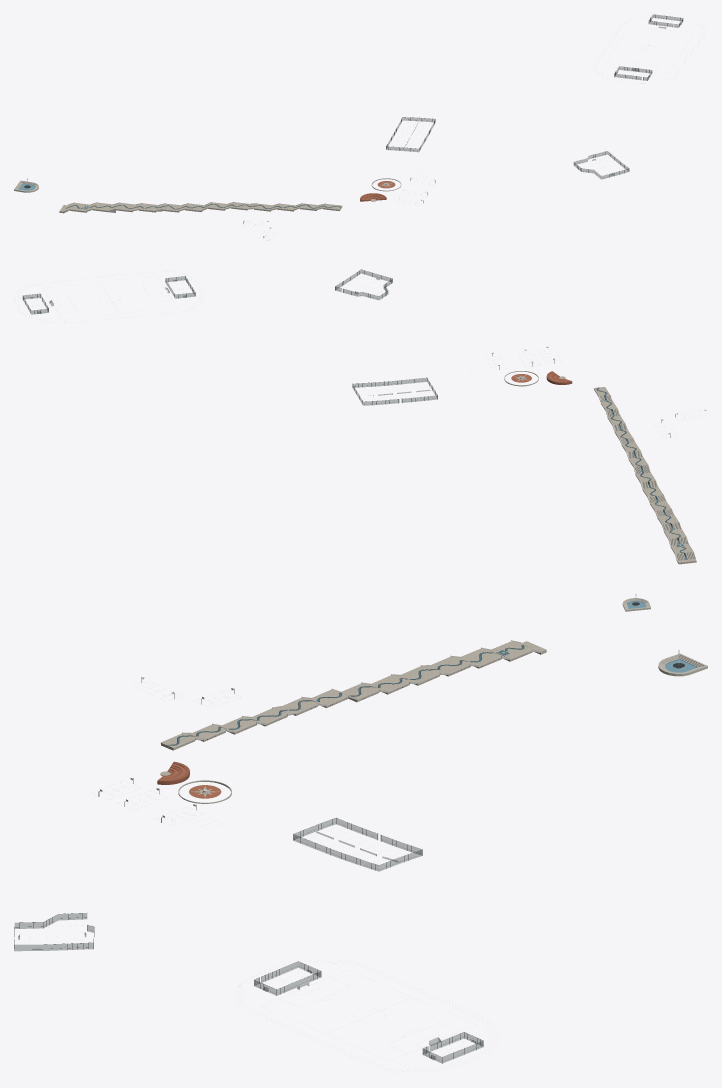
3 views of the same model, one above another, from view 1: azimuth 30°, elevation 25°; view 2: azimuth 150°, elevation 25°; view 3: azimuth 270°, elevation 25° (orthographic). The views are drawn at different scales.
Parts seen in each view (by area): view 1: dku-graniteLight, landscape-mesh, landscape-graniteWhite; view 2: dku-graniteLight, landscape-mesh, landscape-graniteRiser, landscape-graniteWhite; view 3: dku-graniteLight, landscape-mesh, landscape-graniteWhite, landscape-water, landscape-steel, landscape-darkStone, landscape-granite.
Boxes of the visible parts, x1=… form: dku-graniteLight: x1=59, y1=182, x2=392, y2=212; landscape-mesh: x1=386, y1=14, x2=683, y2=179; landscape-graniteWhite: x1=63, y1=183, x2=387, y2=213; dku-graniteLight: x1=514, y1=375, x2=696, y2=564; landscape-mesh: x1=22, y1=269, x2=437, y2=405; landscape-graniteRiser: x1=600, y1=395, x2=694, y2=560; landscape-graniteWhite: x1=520, y1=376, x2=695, y2=561; dku-graniteLight: x1=160, y1=641, x2=546, y2=797; landscape-mesh: x1=14, y1=818, x2=483, y2=1063; landscape-graniteWhite: x1=160, y1=640, x2=541, y2=792; landscape-water: x1=167, y1=645, x2=697, y2=745; landscape-steel: x1=14, y1=677, x2=483, y2=1063; landscape-darkStone: x1=170, y1=645, x2=684, y2=745; landscape-granite: x1=178, y1=653, x2=707, y2=803.
Size of the model in its own units: 718 by 81.94 by 386.
15 materials, 1 textured.
